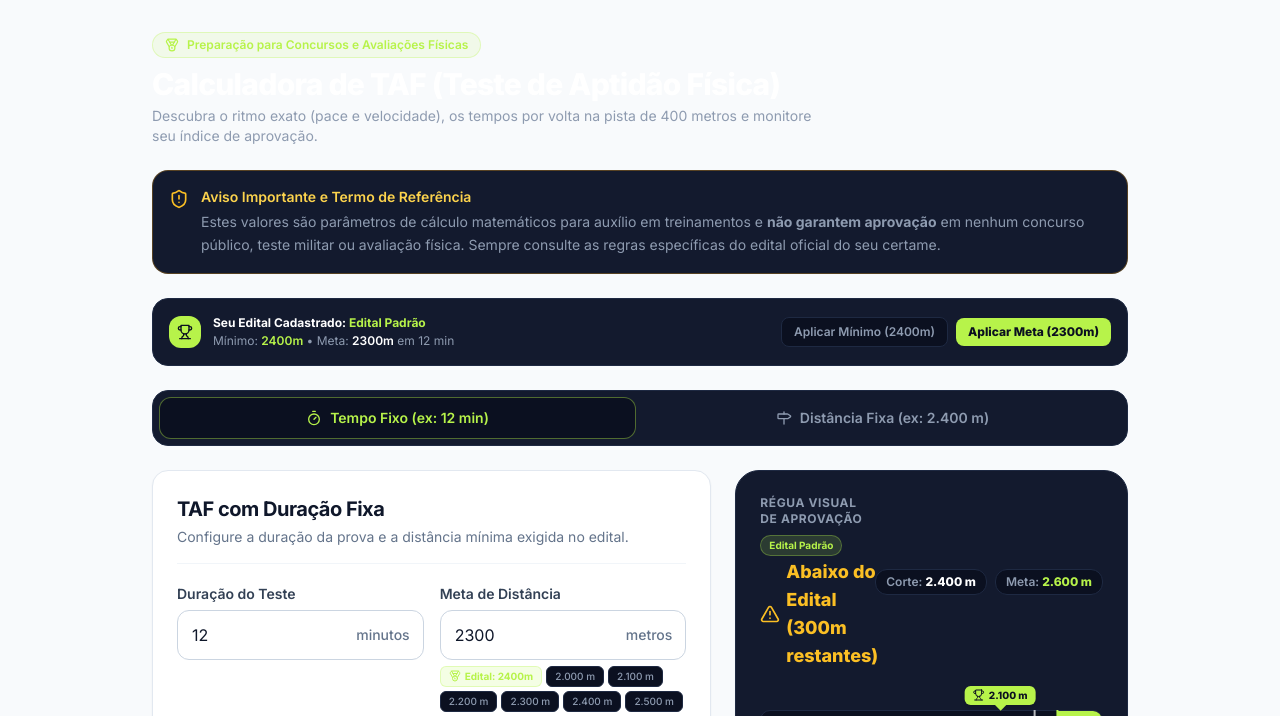
Scenario: TafPage (Fase 5) › exibe atalhos de meta de distância aumentando de 100 em 100 metros e atualiza o campo ao clicar
The width and height of the screenshot is (1280, 716).
Expected: the button "2.000 m" is shown, [546,666,604,686]
Expected: the button "2.100 m" is shown, [608,666,663,686]
# Clica no atalho de 2.500 m
What coordinates should you click on to do the following:
click the button "2.500 m"
I would click on:
 (654, 701)
Its box is [625,690,683,712].
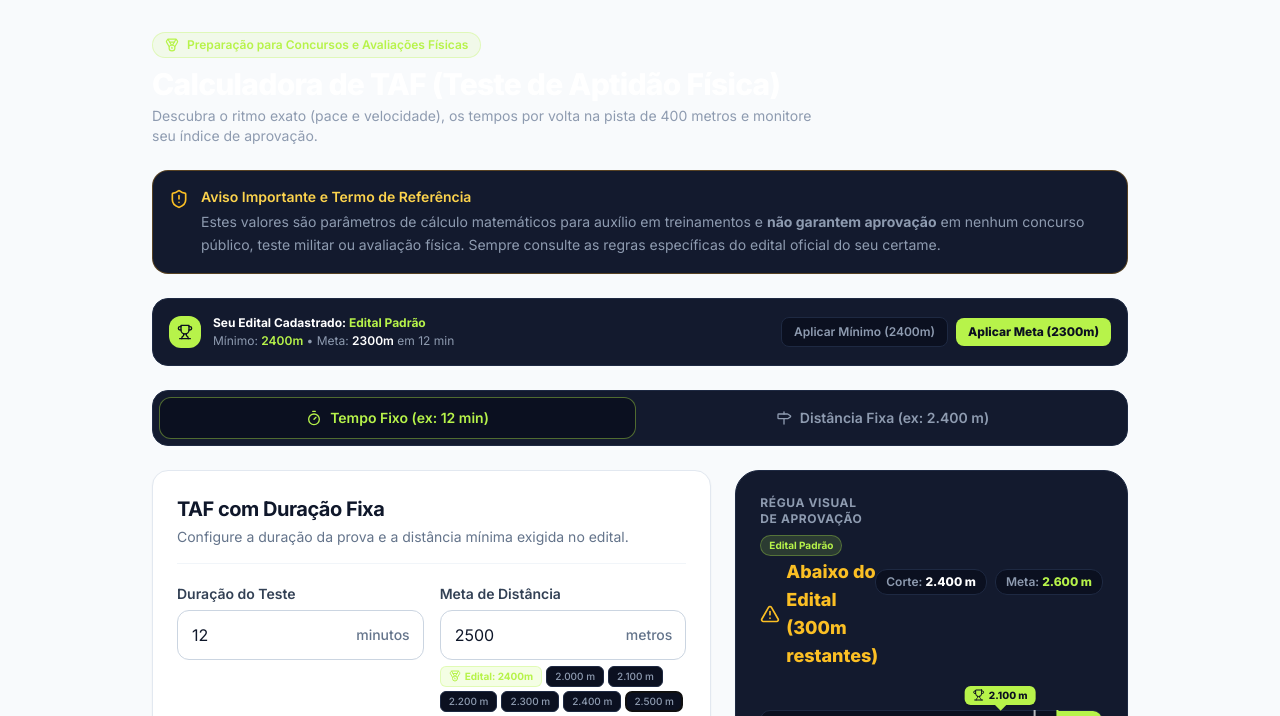
Expected: the field labelled "Meta de Distância" holds "2500", [440,610,686,660]
